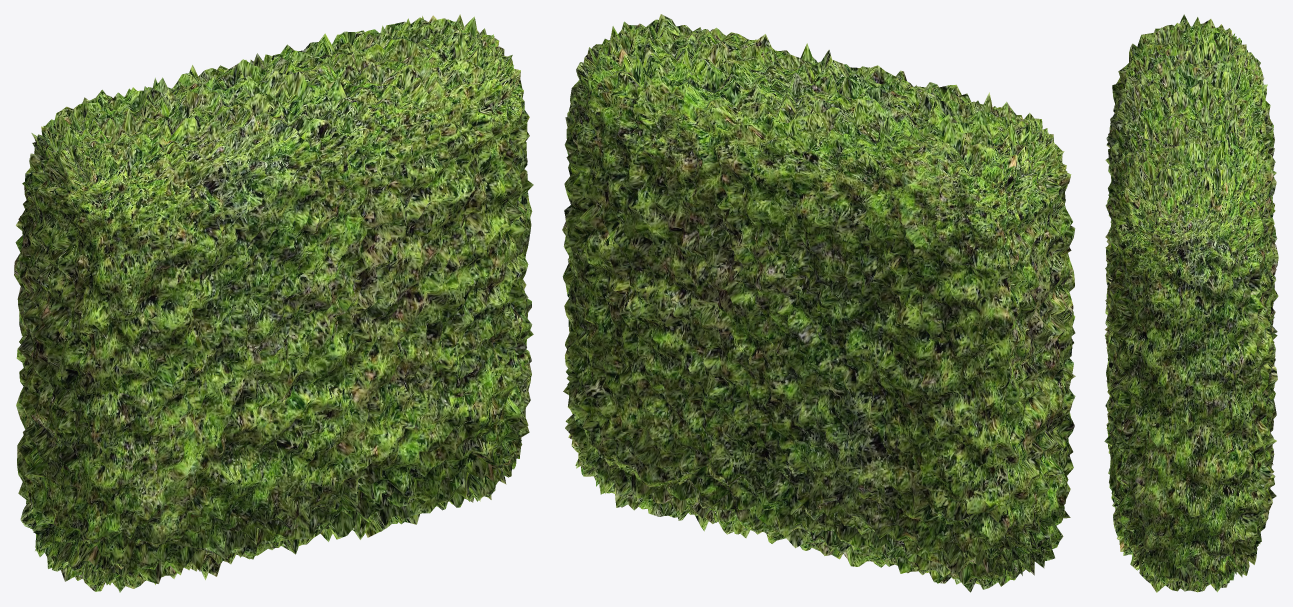
The model's file is arbusto.obj.
3 views of the same model, side by side, from view 1: azimuth 30°, elevation 25°; view 2: azimuth 150°, elevation 25°; view 3: azimuth 270°, elevation 25° (orthographic). The views are drawn at different scales.
Visible parts, largest first — view 1: 1; view 2: 1; view 3: 1.
Boxes of the visible parts, x1,y1,x2,y2 form: 1: (14,14,533,592); 1: (562,14,1075,592); 1: (1104,14,1278,592).
Size of the model in its own units: 106 by 100 by 37.
Materials: 1 (1 with a texture image).
